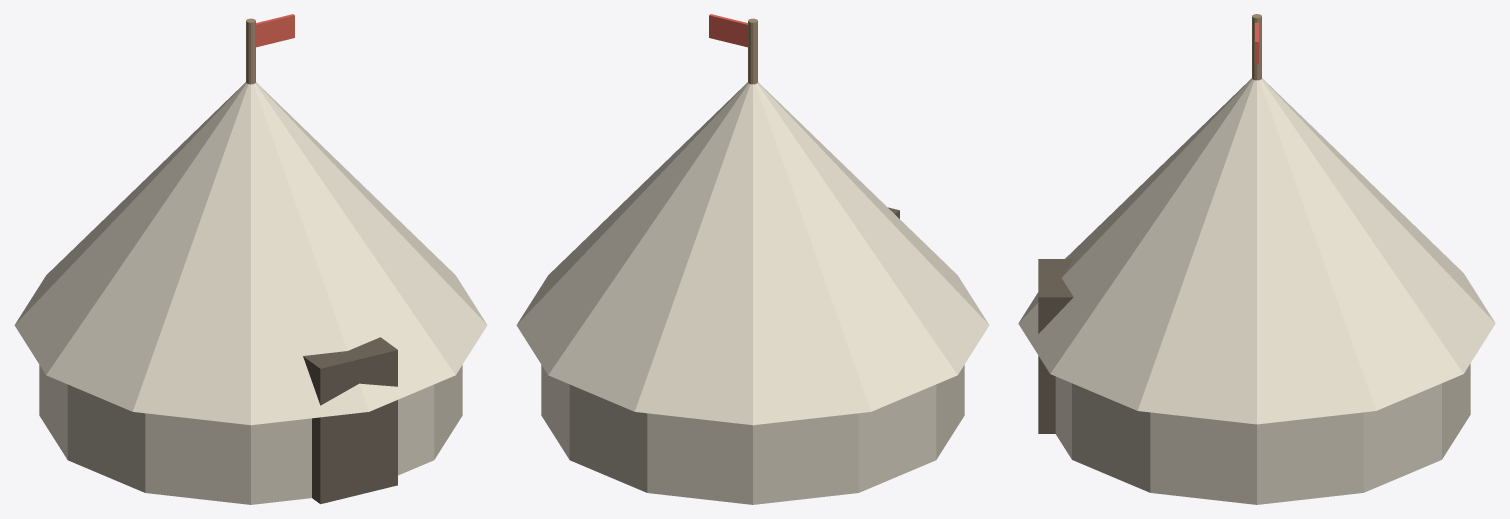
The model's file is tent.glb.
3 views of the same model, side by side, from view 1: azimuth 30°, elevation 25°; view 2: azimuth 150°, elevation 25°; view 3: azimuth 270°, elevation 25° (orthographic).
Visible parts, largest first — view 1: tent roof, tent wall, tent door, tent pennon, tent pole; view 2: tent roof, tent wall, tent pennon, tent pole; view 3: tent roof, tent wall, tent door.
Part boxes in pixels (x1,y1,x2,y2): tent roof: (14, 82, 487, 425); tent wall: (39, 365, 462, 504); tent door: (303, 337, 397, 504); tent pennon: (256, 14, 294, 47); tent pole: (246, 18, 255, 84); tent roof: (516, 82, 989, 425); tent wall: (541, 365, 964, 504); tent pennon: (709, 14, 747, 47); tent pole: (748, 18, 757, 84); tent roof: (1018, 78, 1495, 424); tent wall: (1055, 363, 1470, 504); tent door: (1038, 259, 1073, 433).
Size of the model in its own units: 1.9 by 1.75 by 1.9.
